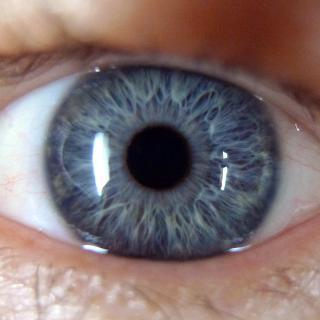pupil: (125, 124, 192, 191)
